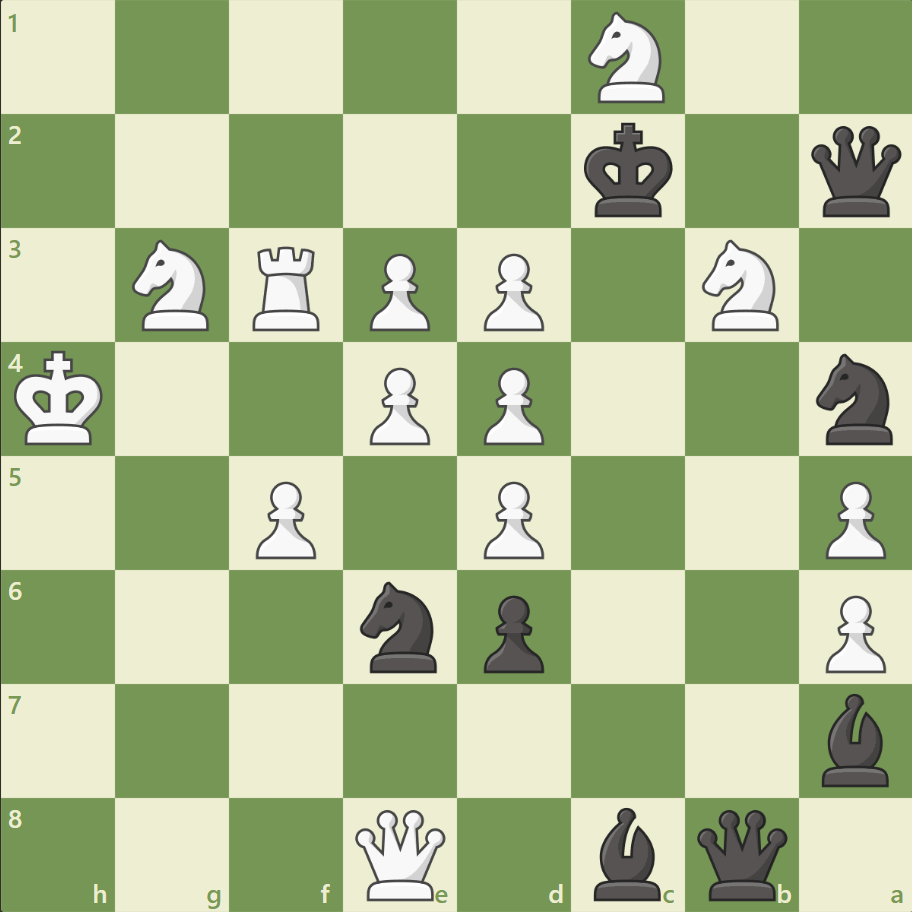K: (11, 344, 111, 452)
N: (124, 234, 222, 337), (692, 234, 789, 337), (579, 7, 676, 110)
P: (474, 473, 549, 564), (247, 473, 322, 564), (474, 359, 549, 450), (474, 246, 549, 337), (815, 586, 889, 677), (815, 473, 889, 564), (361, 359, 435, 450), (361, 246, 435, 337)
Q: (351, 804, 450, 903)
R: (246, 239, 329, 336)
b: (585, 801, 669, 904), (812, 687, 896, 790)
k: (579, 117, 679, 225)
n: (351, 575, 449, 677), (806, 348, 903, 450)
p: (474, 586, 549, 677)
q: (805, 122, 904, 222), (691, 804, 790, 903)
